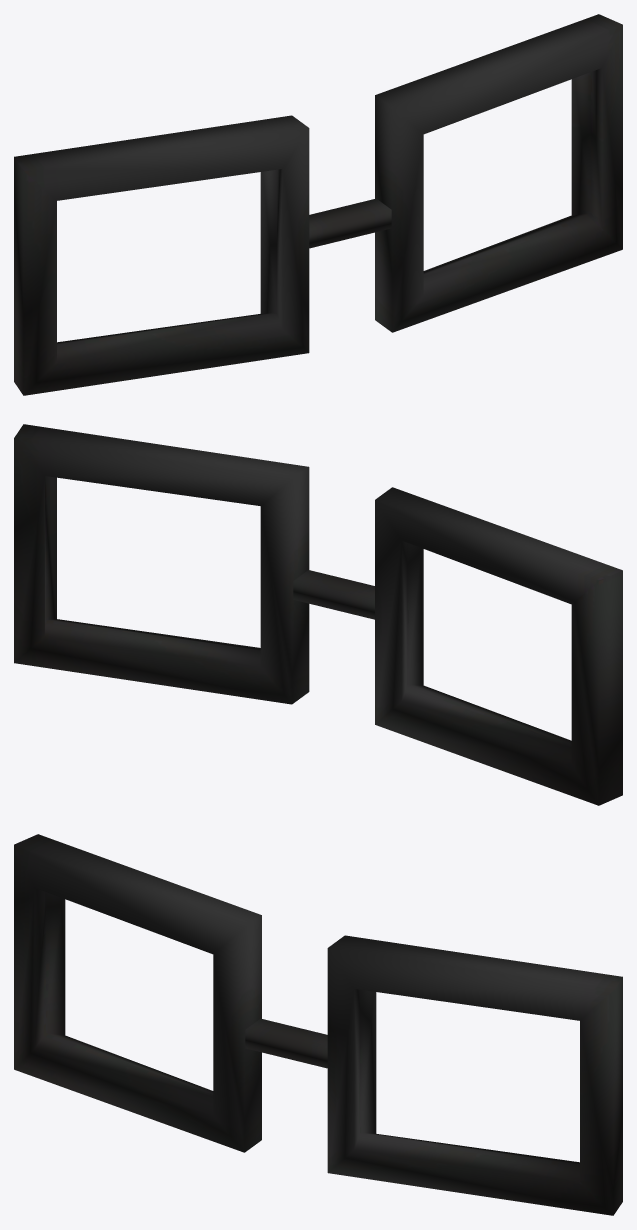
Rendered from M_GlassesA_3.glb.
3 renders of one model, top to bottom at view 1: azimuth 30°, elevation 25°; view 2: azimuth 150°, elevation 25°; view 3: azimuth 330°, elevation 25°, orthographic.
Parts seen in each view (by area): view 1: SM_GlassesA; view 2: SM_GlassesA; view 3: SM_GlassesA.
Boxes of the visible parts, x1,y1,x2,y2 form: SM_GlassesA: (14,14,622,395); SM_GlassesA: (14,424,622,805); SM_GlassesA: (14,834,622,1215).
Bounding box in the file's own units: 0.8678 × 0.3112 × 0.1173.
1 material, 1 textured.
